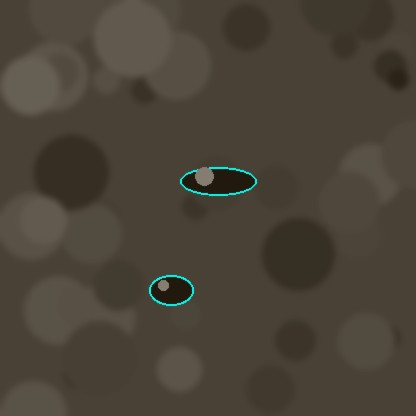gota: (180, 168, 256, 198), (149, 276, 193, 308)
